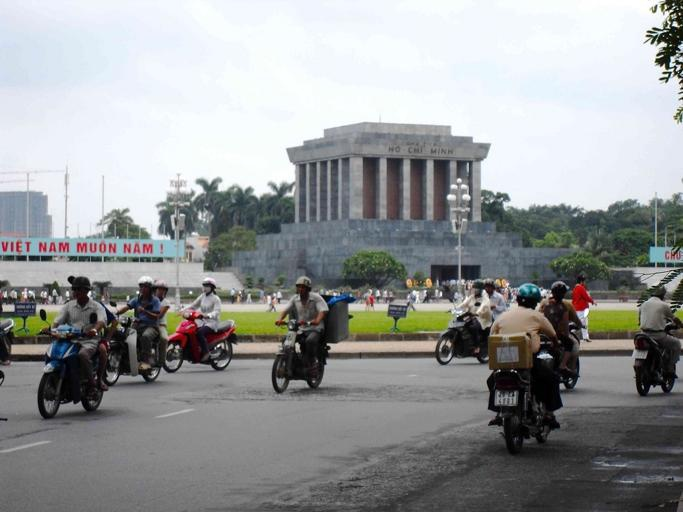non-vehicle: (486, 332, 561, 454), (36, 308, 110, 419), (163, 304, 238, 372), (102, 311, 167, 385), (270, 318, 330, 392), (630, 318, 682, 395), (435, 295, 489, 365), (540, 322, 586, 390), (0, 317, 15, 365)
